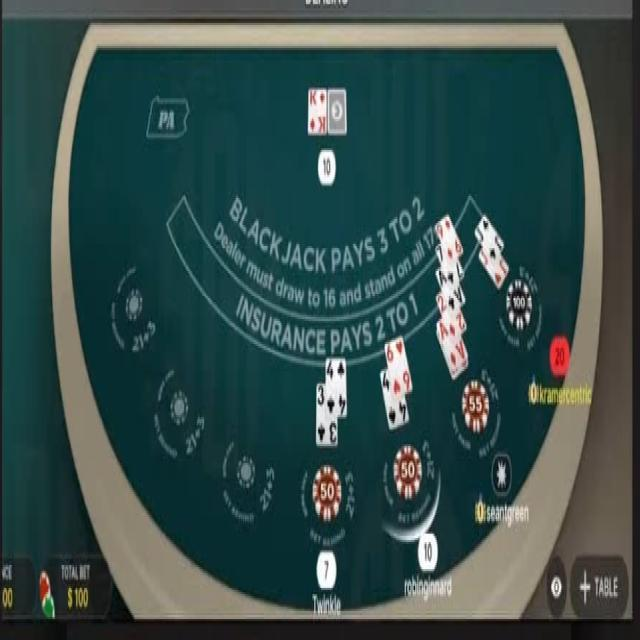Card-2: (436, 291, 466, 342)
Card-3: (315, 383, 337, 444)
Card-4: (380, 369, 409, 430), (326, 356, 347, 417)
Card-6: (384, 335, 413, 398)
Card-7: (435, 242, 465, 285)
Card-9: (435, 214, 463, 261)
Card-A: (435, 318, 468, 380), (435, 264, 465, 310)
Card-J: (474, 214, 504, 266), (478, 247, 508, 290)
Card-K: (307, 87, 327, 136)
